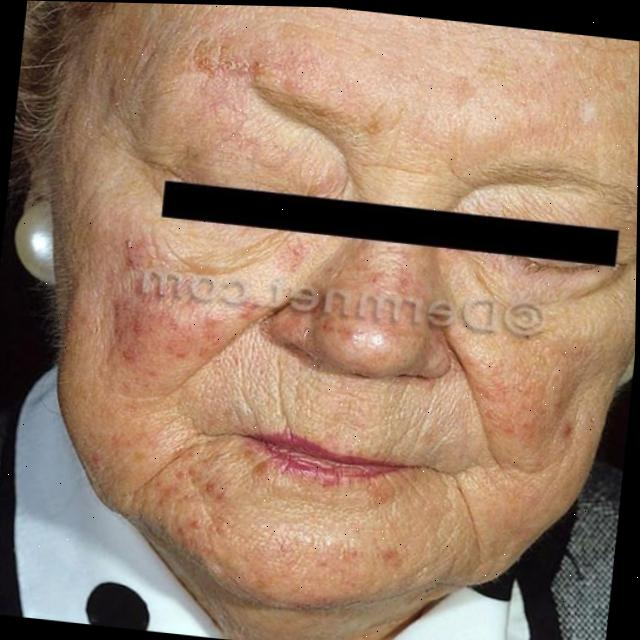Rosacea: (144, 458, 431, 609), (91, 223, 306, 412), (440, 315, 593, 479), (275, 242, 448, 368)
